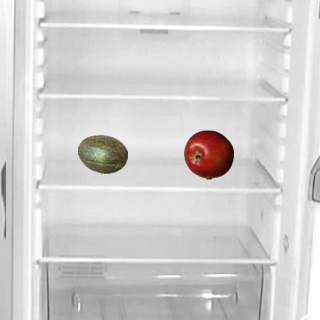Apple Braeburn: (183, 129, 233, 179)
Melon Piel de Sapo: (77, 129, 127, 179)
